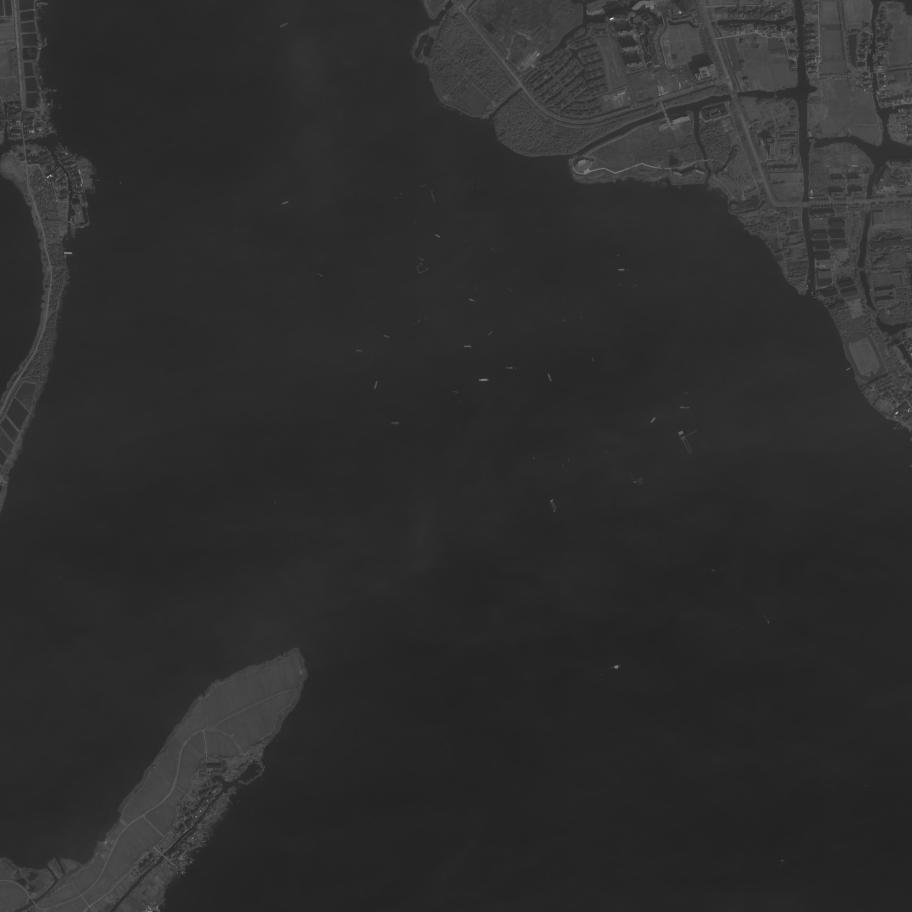ship: (678, 431, 694, 454), (607, 664, 621, 671), (549, 498, 557, 510), (279, 22, 288, 28), (372, 381, 378, 390), (800, 202, 809, 207), (282, 200, 290, 205), (63, 251, 73, 255), (49, 88, 58, 92), (39, 2, 48, 6), (547, 374, 552, 381), (391, 421, 399, 425), (317, 272, 323, 277), (432, 193, 435, 203), (845, 367, 851, 372), (42, 43, 48, 48), (479, 378, 489, 381), (679, 406, 689, 409), (651, 417, 656, 423), (551, 507, 556, 513), (420, 184, 427, 188), (50, 99, 53, 108), (488, 331, 493, 336), (418, 257, 424, 261), (435, 234, 441, 238), (683, 391, 689, 395), (617, 268, 625, 271), (464, 345, 471, 348), (469, 298, 474, 302), (44, 38, 47, 44), (383, 335, 390, 337), (506, 367, 513, 369), (356, 350, 362, 352), (767, 622, 770, 624)
